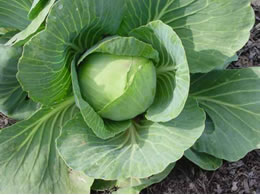cabbage: (68, 26, 170, 135)
